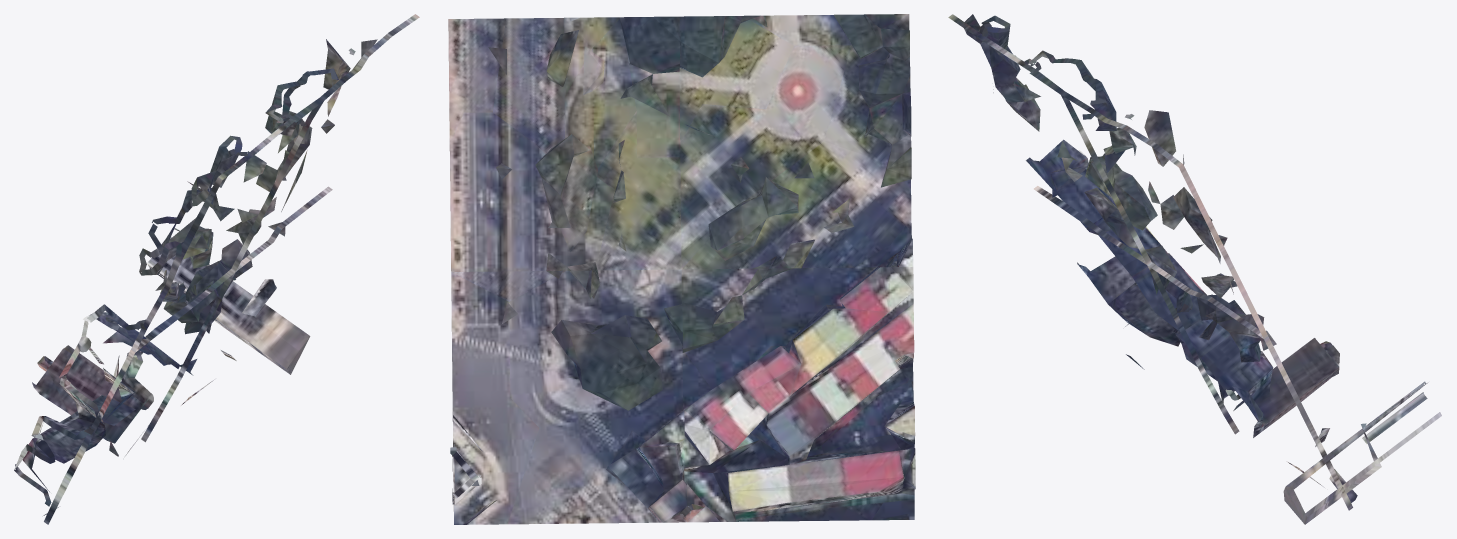
3 renders of one model, left to right at view 1: azimuth 30°, elevation 25°; view 2: azimuth 150°, elevation 25°; view 3: azimuth 270°, elevation 25°, orthographic. The views are drawn at different scales.
Size of the model in its own units: 157 by 144 by 160.
Materials: 2 (2 with a texture image).
